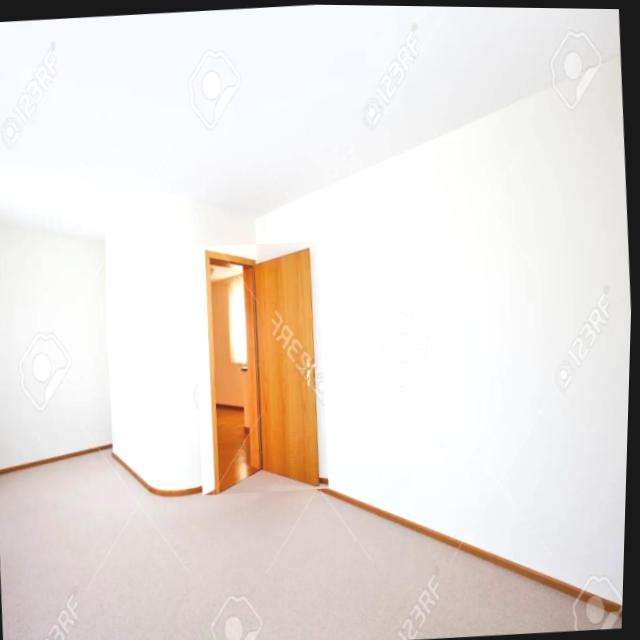open: (188, 237, 338, 497)
